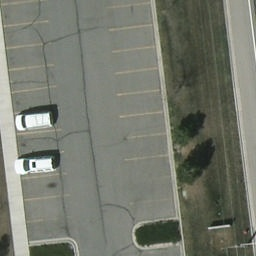car: (12, 111, 55, 130), (14, 158, 57, 175)
